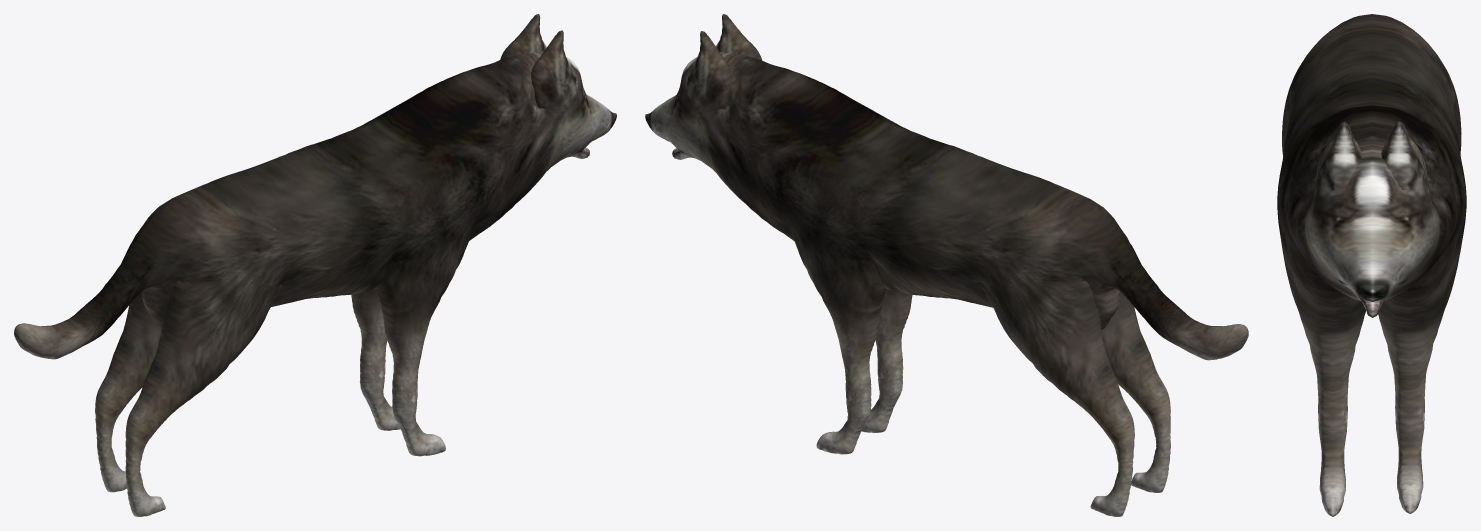
Rendered from wolf.glb.
The picture shows the model from 3 angles, left to right: view 1: azimuth 30°, elevation 25°; view 2: azimuth 150°, elevation 25°; view 3: azimuth 270°, elevation 25°; orthographic projection. The views are drawn at different scales.
Size of the model in its own units: 0.9994 by 0.6154 by 0.2258.
Materials: 1 (1 with a texture image).
